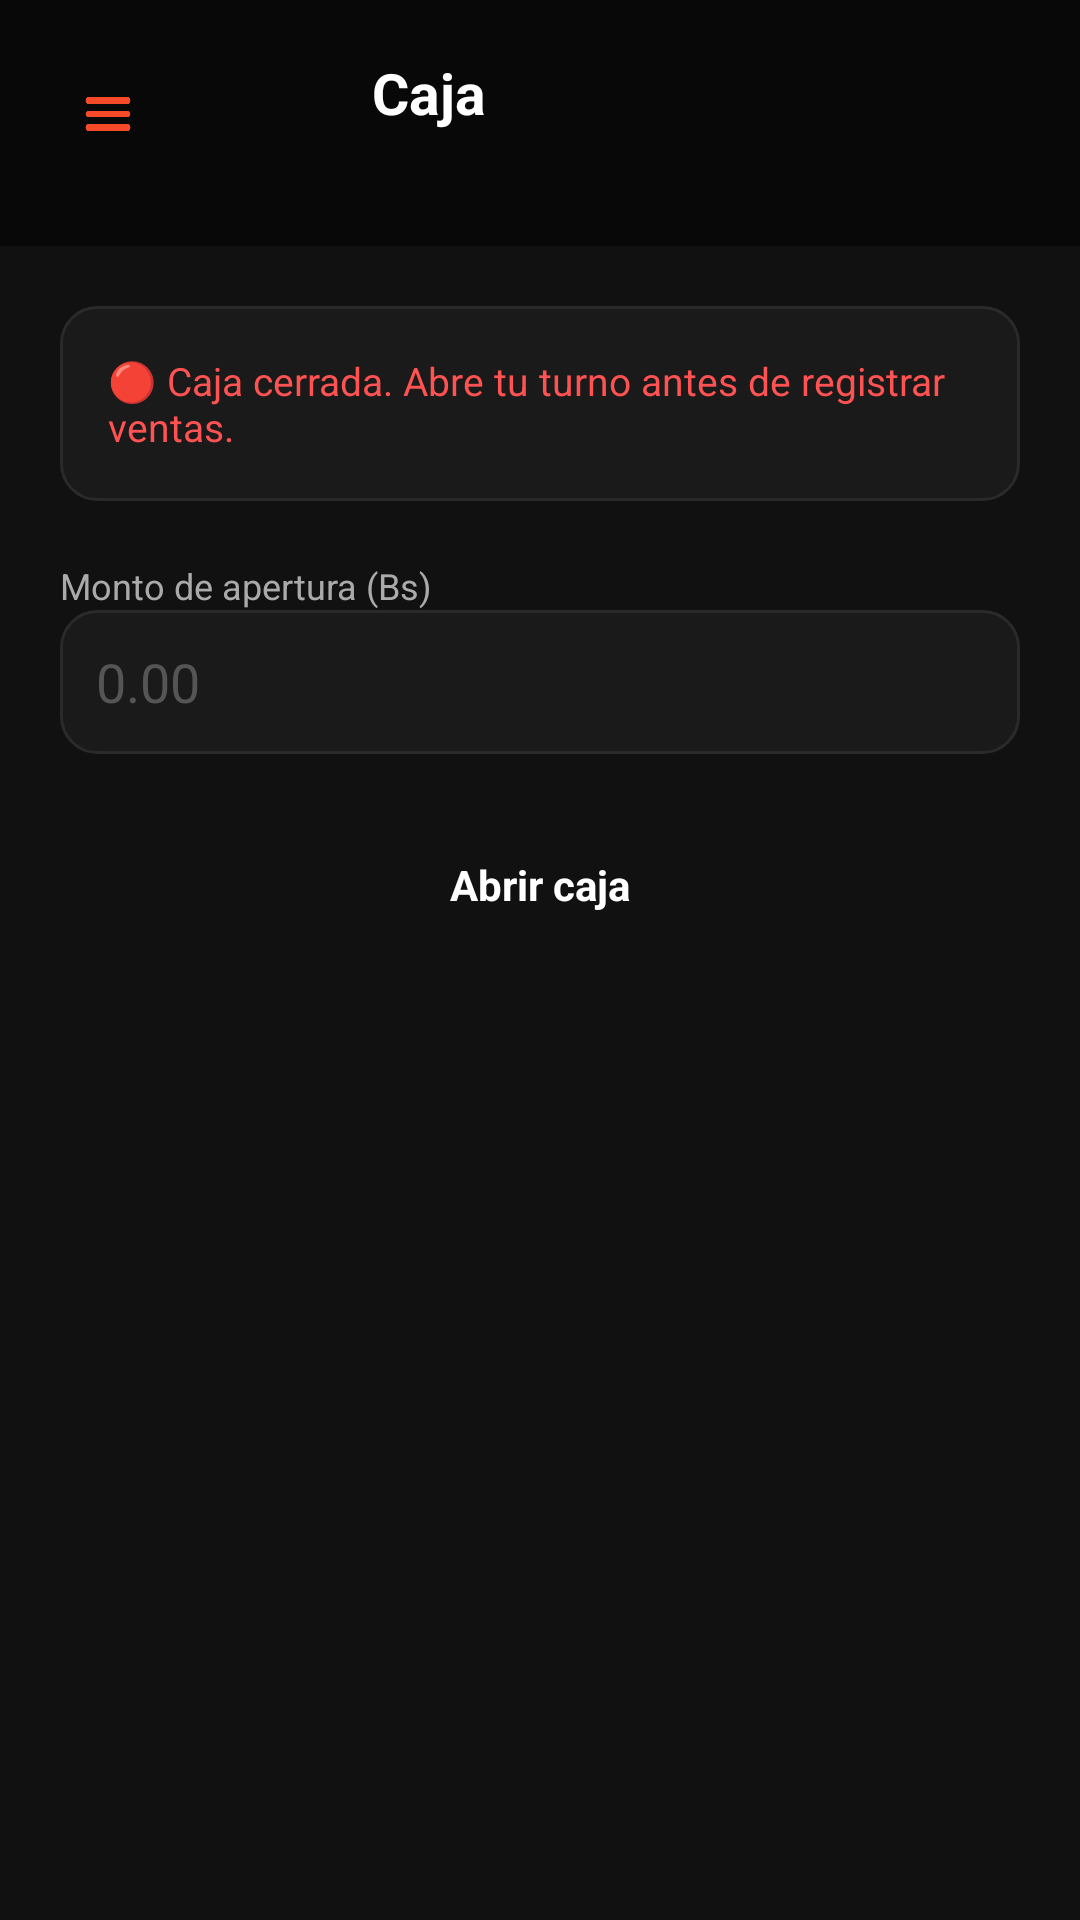

Where to tap for icons on this 1080×1920 app screen, as [x,y]:
Menú: [108,114]
